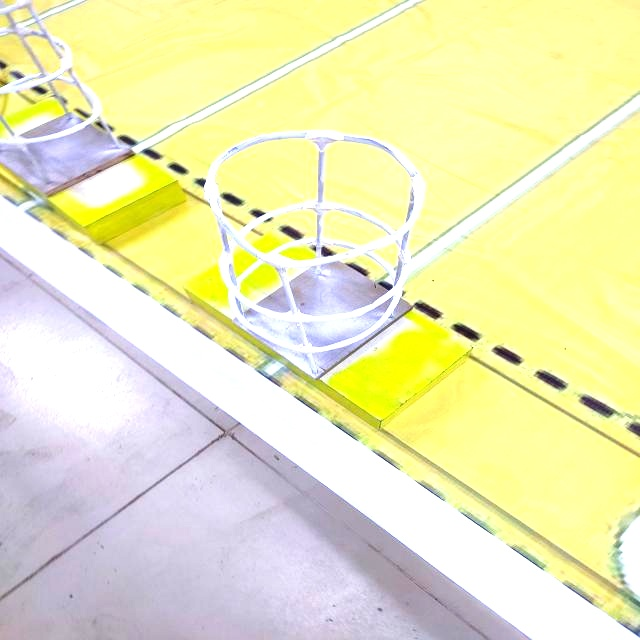silo: (180, 110, 464, 384)
